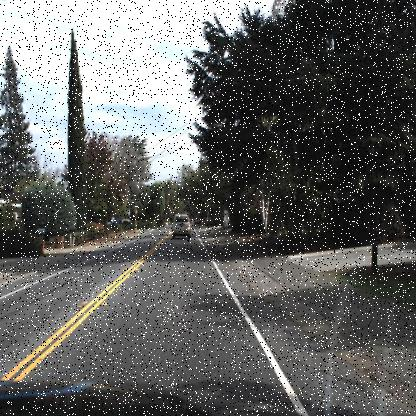car: (170, 210, 192, 239)
